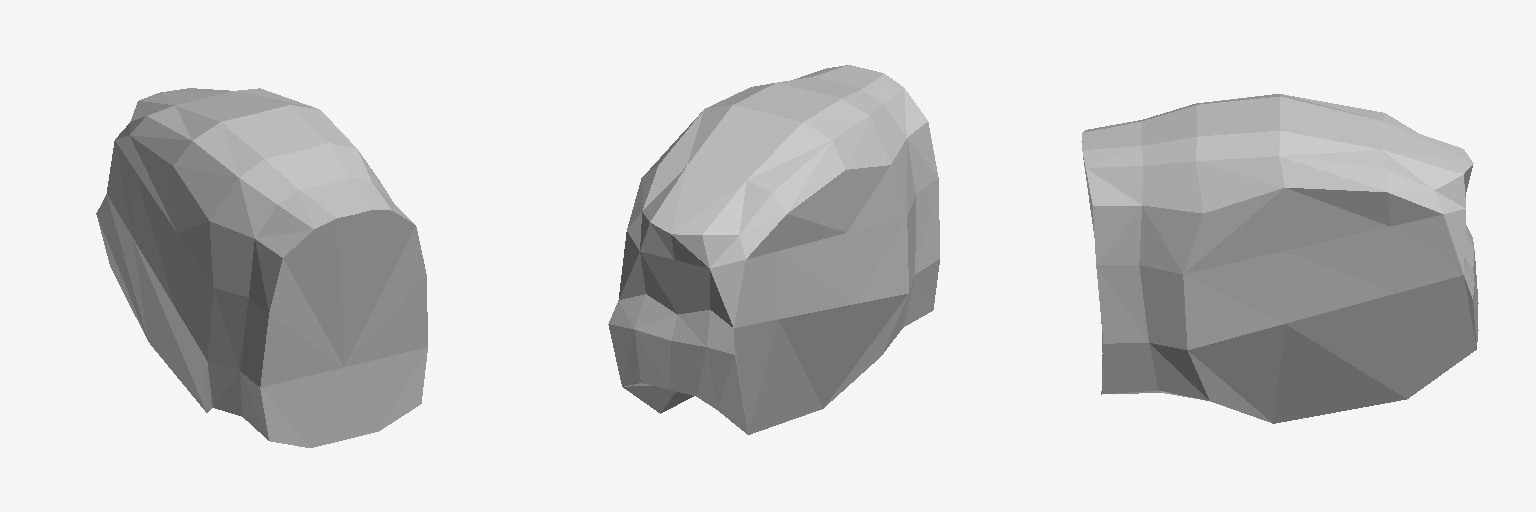
The model's file is 00_body_back.obj.
The picture shows the model from 3 angles: view 1: azimuth 30°, elevation 25°; view 2: azimuth 150°, elevation 25°; view 3: azimuth 270°, elevation 25°; orthographic projection.
Parts seen in each view (by area): view 1: polySurface20 WolfMesh; view 2: polySurface20 WolfMesh; view 3: polySurface20 WolfMesh.
Boxes of the visible parts, x1=… form: polySurface20 WolfMesh: x1=96, y1=88, x2=427, y2=447; polySurface20 WolfMesh: x1=608, y1=65, x2=939, y2=434; polySurface20 WolfMesh: x1=1081, y1=94, x2=1478, y2=423.
Size of the model in its own units: 0.721 by 1.04 by 1.31.